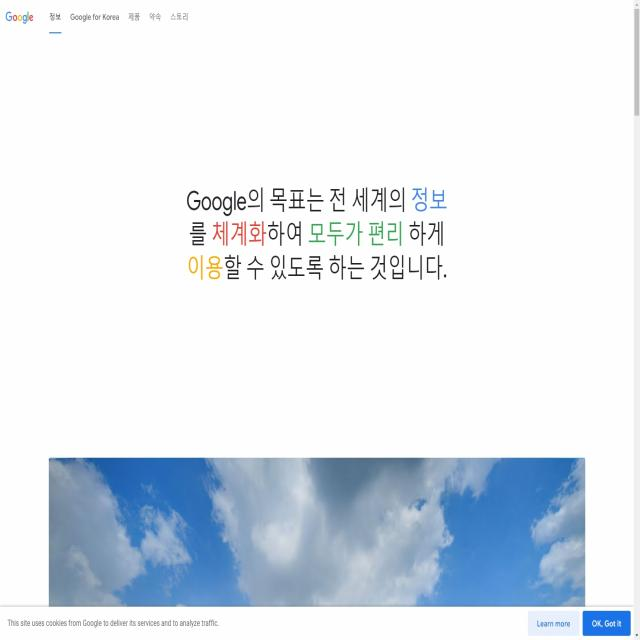menu-bar: (44, 2, 190, 35)
